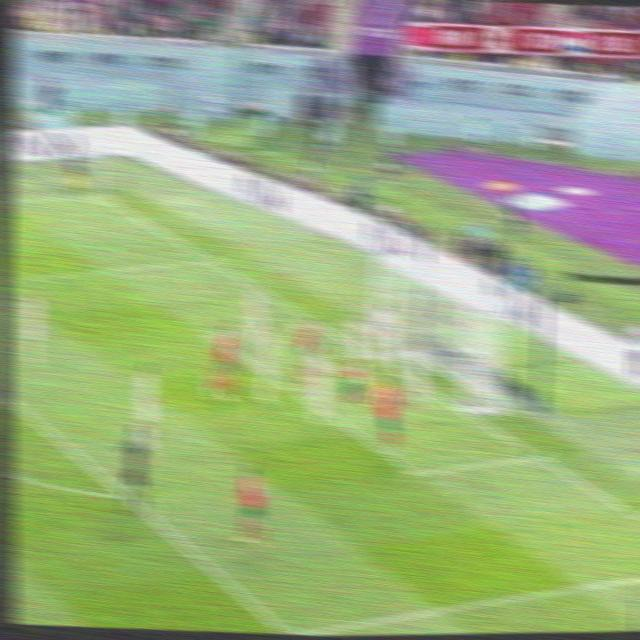bigarea_bottom_inner: (276, 615, 309, 635)
bigarea_top_outter: (196, 247, 224, 272)
bottom_arc_area_intersection: (110, 484, 136, 506)
corner: (83, 185, 116, 204)
smallarea_bottom_inner: (401, 455, 435, 490)
smallarea_bottom_outter: (522, 439, 555, 472)
smallarea_top_inner: (198, 321, 225, 349)
smallarea_top_outter: (305, 311, 329, 332)
